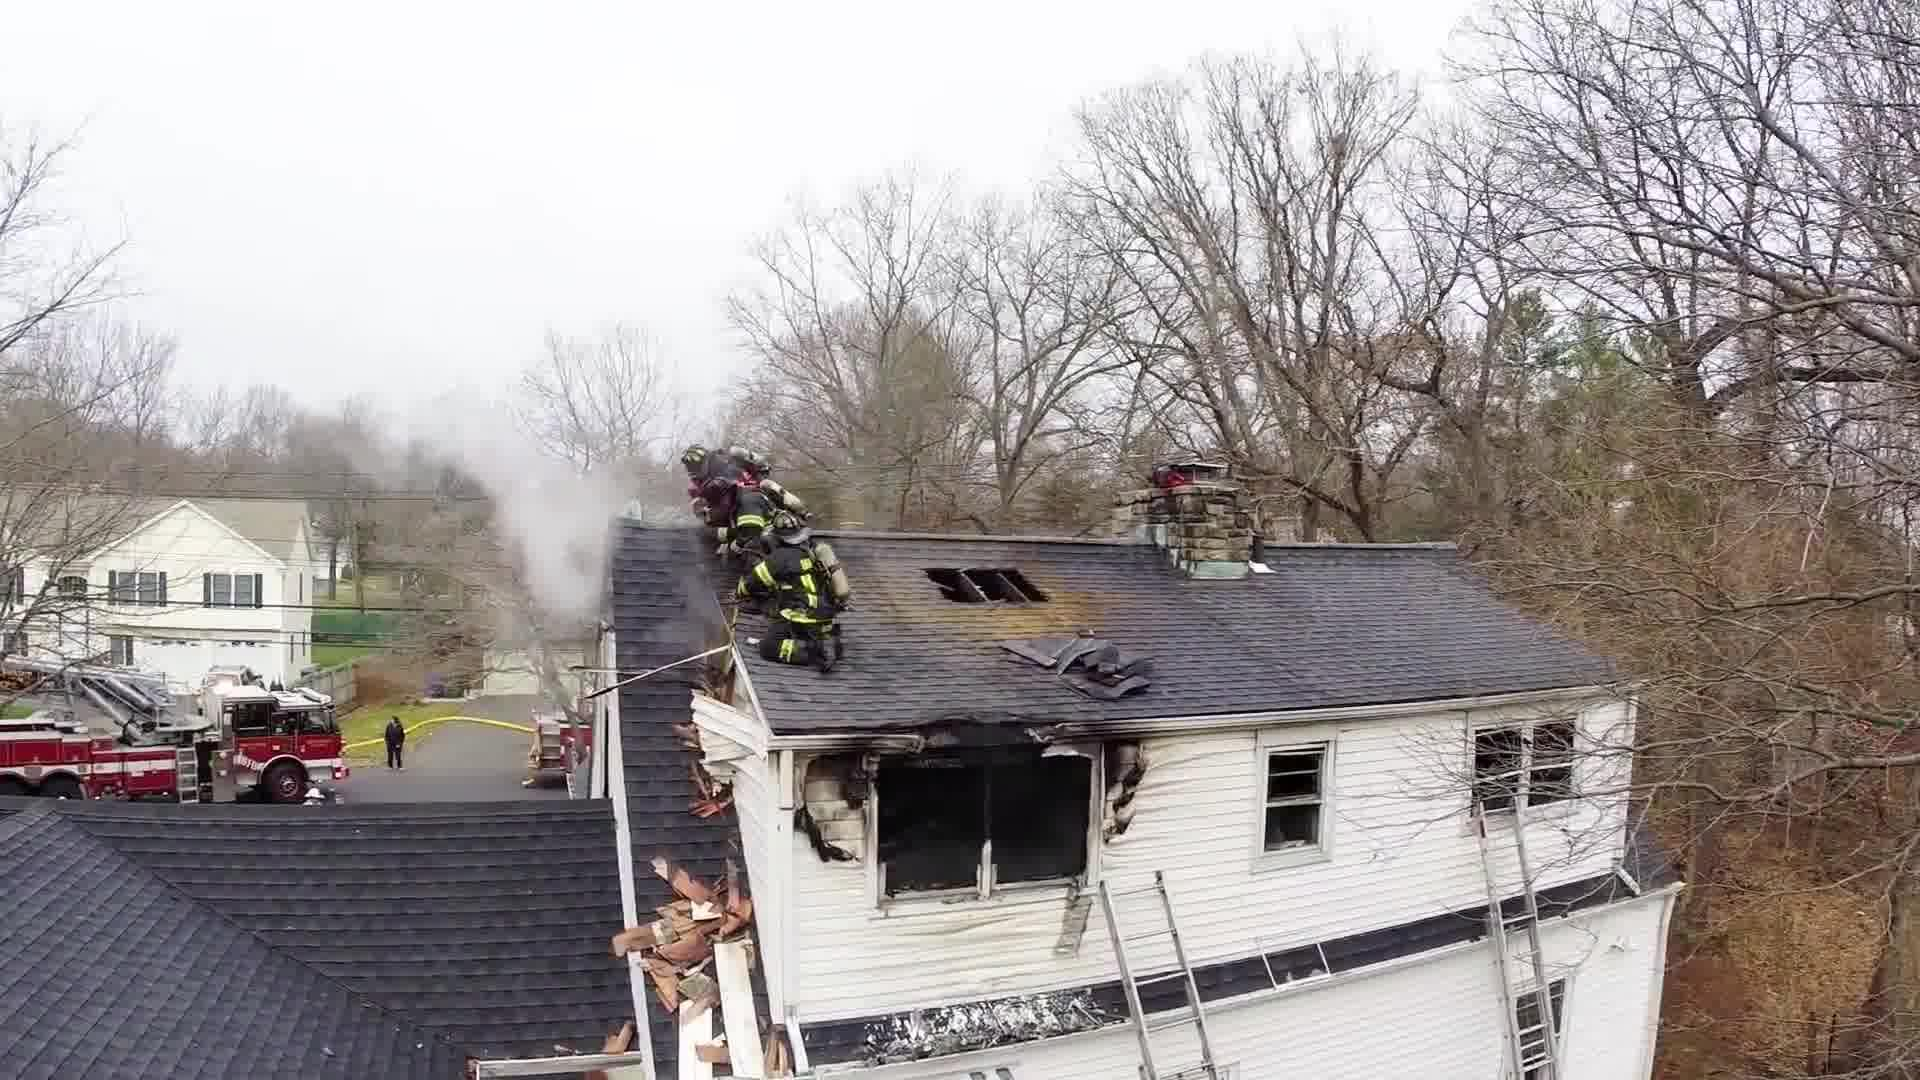smoke: (444, 393, 626, 629)
